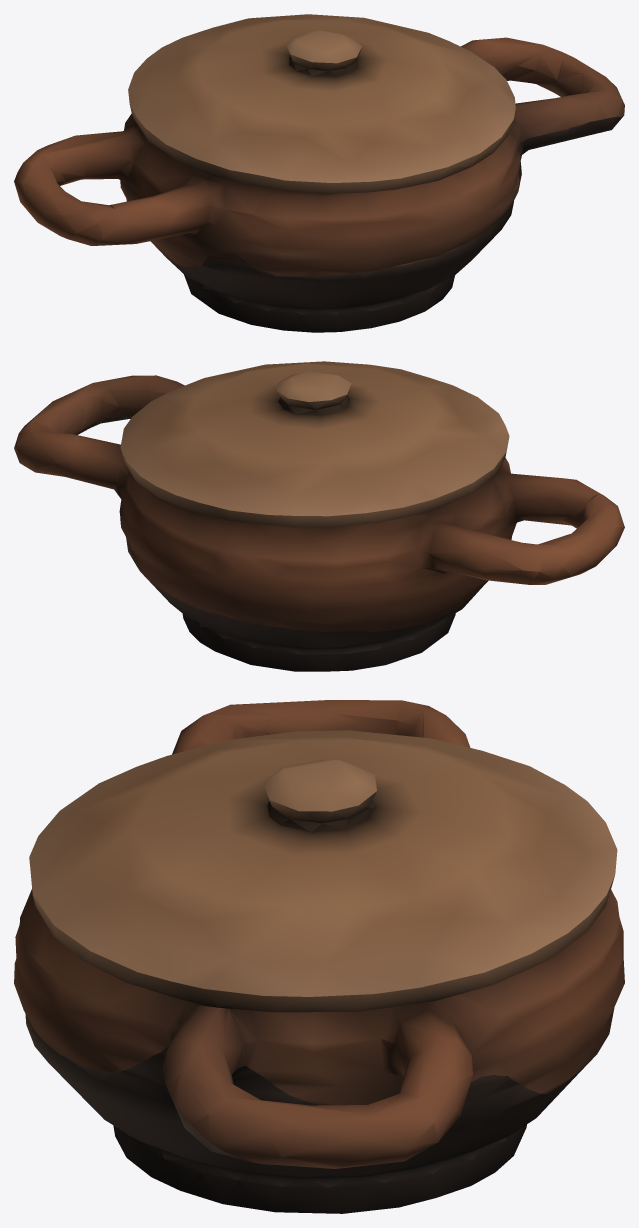
The model's file is pot_large.glb.
The picture shows the model from 3 angles, top to bottom: view 1: azimuth 30°, elevation 25°; view 2: azimuth 150°, elevation 25°; view 3: azimuth 270°, elevation 25°; orthographic projection. The views are drawn at different scales.
Visible parts, largest first — view 1: pot_large_LOD0; view 2: pot_large_LOD0; view 3: pot_large_LOD0.
Part boxes in pixels (bbox=[...]): pot_large_LOD0: bbox=[14, 14, 624, 332]; pot_large_LOD0: bbox=[14, 361, 624, 671]; pot_large_LOD0: bbox=[14, 700, 624, 1213].
Size of what is drawn, in the model's own units: 0.5842 by 0.2305 by 0.3595.
